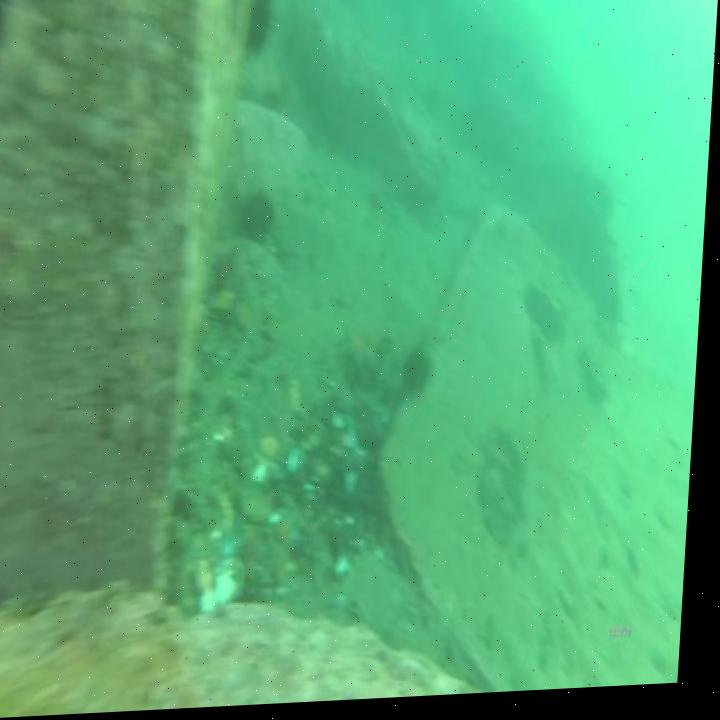echinus: (246, 182, 279, 254), (403, 344, 440, 406)
